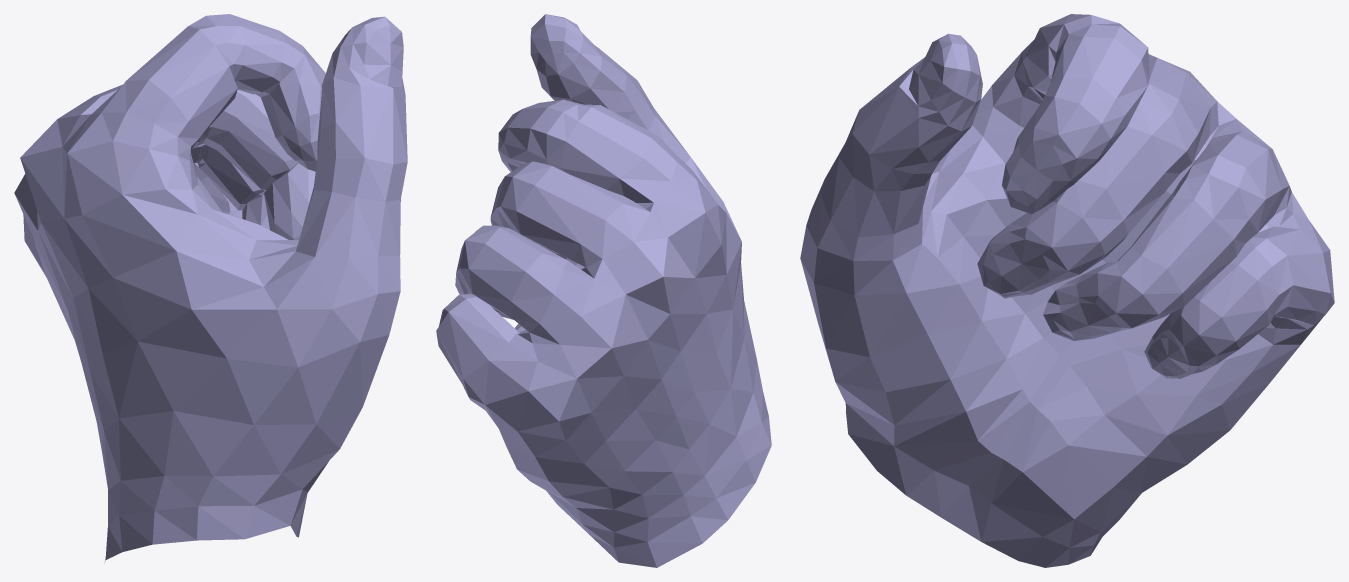
File: frame_0018_source_000018_hand.glb
The picture shows the model from 3 angles, left to right: view 1: azimuth 30°, elevation 25°; view 2: azimuth 150°, elevation 25°; view 3: azimuth 270°, elevation 25°; orthographic projection. The views are drawn at different scales.
Parts seen in each view (by area): view 1: world; view 2: world; view 3: world.
Part boxes in pixels (x1,y1,x2,y2): world: (14, 14, 407, 562); world: (436, 14, 771, 567); world: (800, 14, 1334, 567).
Bounding box in the file's own units: 0.0619 × 0.1217 × 0.0998.
